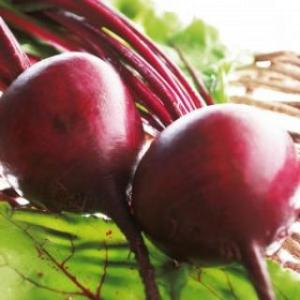beet: (132, 104, 300, 278), (0, 54, 144, 212)
